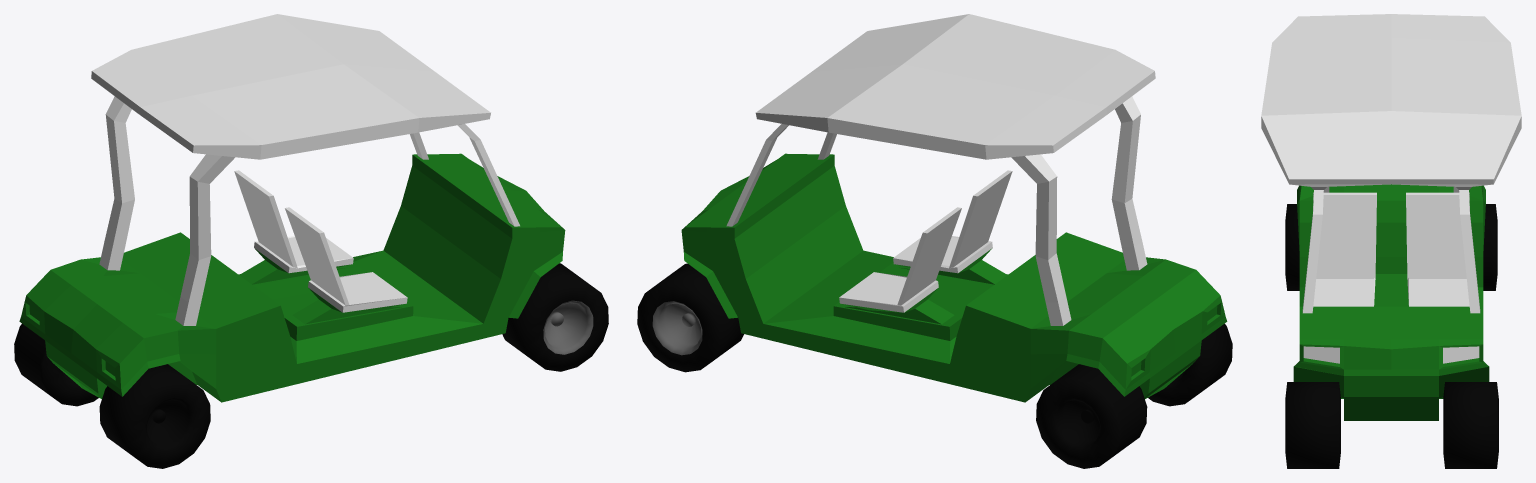
The model's file is carrinho-golfe.glb.
3 renders of one model, left to right at view 1: azimuth 30°, elevation 25°; view 2: azimuth 150°, elevation 25°; view 3: azimuth 270°, elevation 25°, orthographic. The views are drawn at different scales.
Parts seen in each view (by area): view 1: Body, RRTire, FRTire, RLTIRE; view 2: Body, RLTIRE, FLTire, RRTire; view 3: Body, FLTire, FRTire, RLTIRE, RRTire.
Boxes of the visible parts, box(x1,y1,x2,y2) form: Body: box(19, 14, 565, 402); RRTire: box(99, 364, 210, 468); FRTire: box(502, 263, 608, 371); RLTIRE: box(14, 323, 98, 406); Body: box(681, 14, 1227, 402); RLTIRE: box(1036, 364, 1147, 468); FLTire: box(637, 263, 743, 372); RRTire: box(1148, 323, 1232, 406); Body: box(1261, 14, 1521, 420); FLTire: box(1443, 382, 1498, 468); FRTire: box(1285, 382, 1340, 468); RLTIRE: box(1483, 204, 1497, 290); RRTire: box(1285, 204, 1299, 290).
Bounding box in the file's own units: 414 × 256 × 211.
